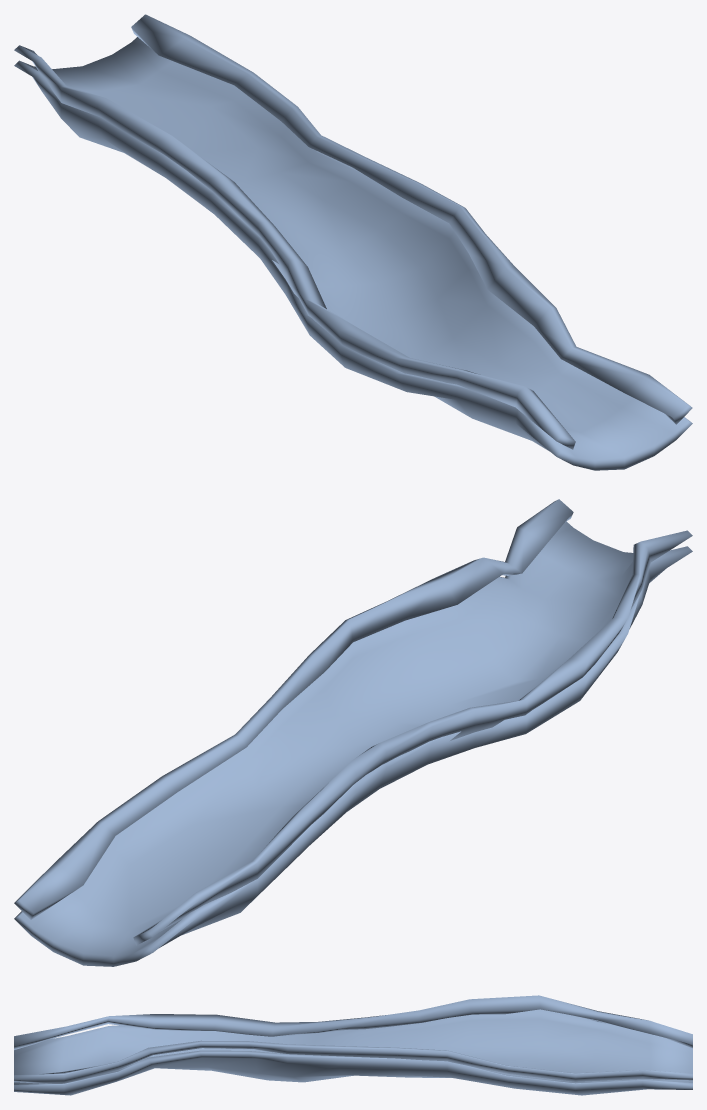
The model's file is junRoadLongCurve5.fbx.
The picture shows the model from 3 angles, top to bottom: view 1: azimuth 30°, elevation 25°; view 2: azimuth 150°, elevation 25°; view 3: azimuth 270°, elevation 25°; orthographic projection. The views are drawn at different scales.
Parts seen in each view (by area): view 1: roadLongCurve5_LOD0, roadLongCurve5_edge_LOD0; view 2: roadLongCurve5_LOD0, roadLongCurve5_edge_LOD0; view 3: roadLongCurve5_LOD0, roadLongCurve5_edge_LOD0.
Part boxes in pixels (x1=…): roadLongCurve5_LOD0: x1=14, y1=37, x2=692, y2=470; roadLongCurve5_edge_LOD0: x1=14, y1=14, x2=692, y2=449; roadLongCurve5_LOD0: x1=14, y1=521, x2=692, y2=966; roadLongCurve5_edge_LOD0: x1=14, y1=499, x2=692, y2=945; roadLongCurve5_LOD0: x1=14, y1=1009, x2=692, y2=1095; roadLongCurve5_edge_LOD0: x1=14, y1=995, x2=692, y2=1083.
Size of the model in its own units: 937 by 443 by 4390.
